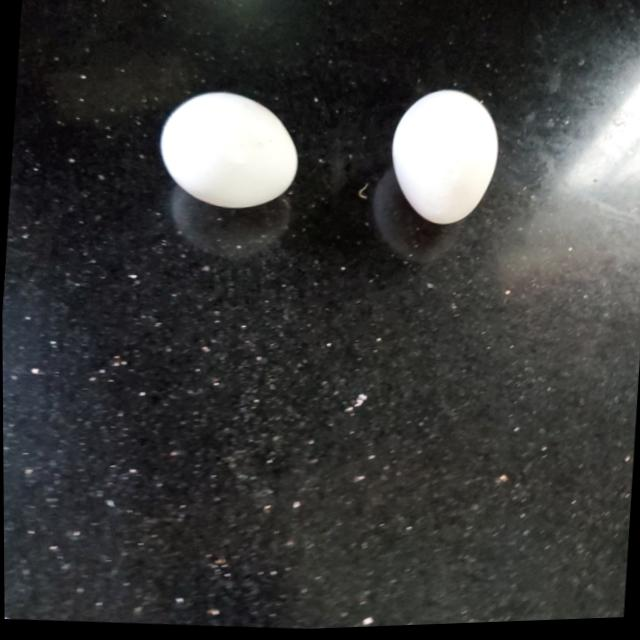egg: (156, 79, 312, 214), (383, 86, 501, 234)
